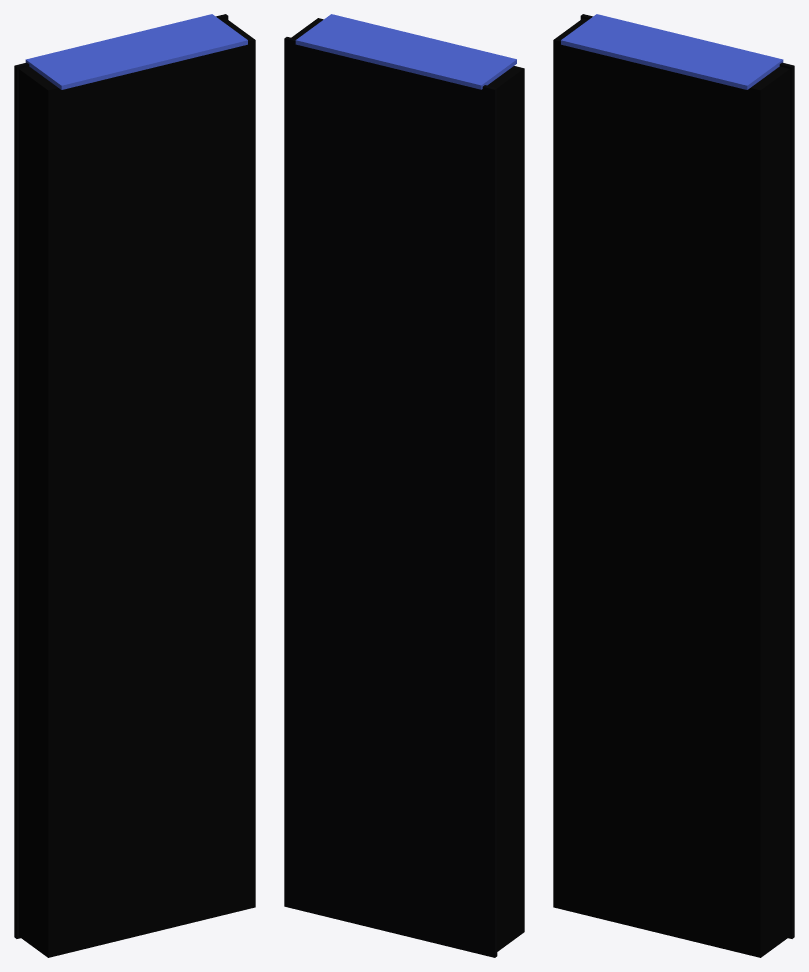
The model's file is monolith.glb.
The picture shows the model from 3 angles, left to right: view 1: azimuth 30°, elevation 25°; view 2: azimuth 150°, elevation 25°; view 3: azimuth 330°, elevation 25°; orthographic projection.
Visible parts, largest first — view 1: monolith; view 2: monolith; view 3: monolith.
Part boxes in pixels (x1,y1,x2,y2): monolith: (14, 14, 255, 957); monolith: (284, 14, 524, 957); monolith: (553, 14, 794, 957).
Size of the model in its own units: 0.3737 by 1.48 by 0.1099.
